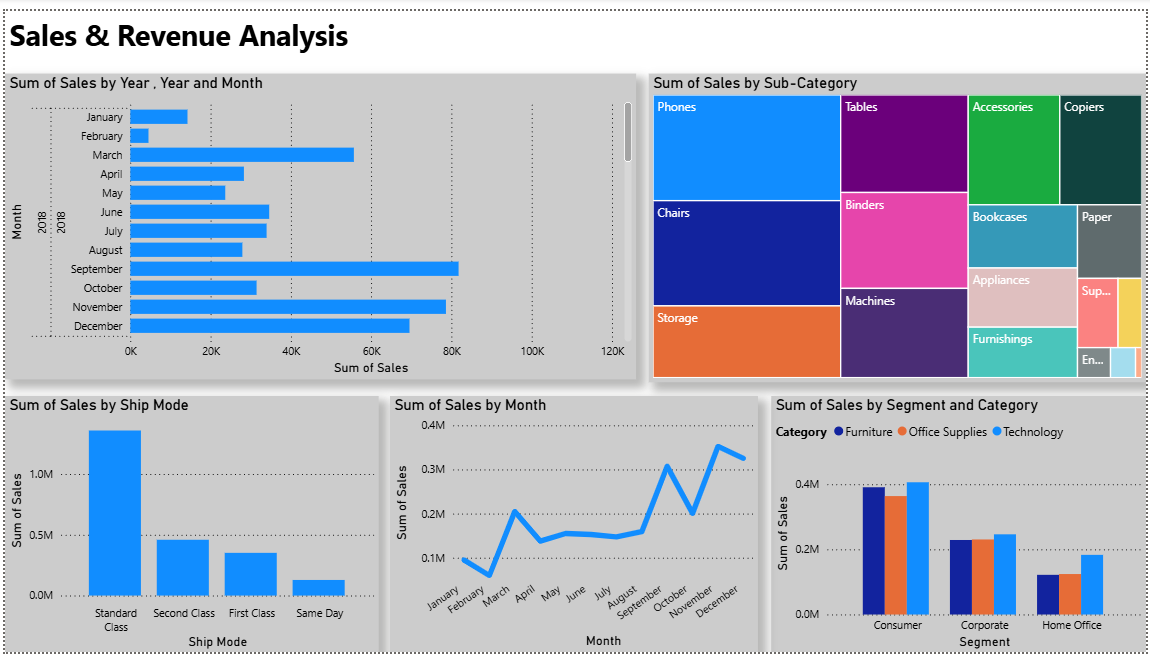

The page's visual inventory and layout, read from the dashboard file:
{"tool":"powerbi","page":{"name":"Page 2","canvas":[1280,720],"ordinal":1},"visuals":[{"type":"clusteredBarChart","fields":{"Category":["E-Commerce.Year ","E-Commerce.Order Date.Variation.Date Hierarchy.Year","E-Commerce.Order Date.Variation.Date Hierarchy.Month"],"Y":["Sum(E-Commerce.Sales)"]},"box":[13.7,70,671,343.1],"z":0},{"type":"treemap","fields":{"Group":["E-Commerce.Sub-Category"],"Values":["Sum(E-Commerce.Sales)"]},"box":[721.8,70,542,345.8],"z":1000},{"type":"columnChart","fields":{"Category":["E-Commerce.Ship Mode"],"Y":["Sum(E-Commerce.Sales)"]},"box":[13.7,432.2,392.5,288.2],"z":2000},{"type":"clusteredColumnChart","fields":{"Category":["E-Commerce.Segment"],"Series":["E-Commerce.Category"],"Y":["Sum(E-Commerce.Sales)"]},"box":[874.1,432.2,389.7,288.2],"z":3000},{"type":"lineChart","fields":{"Category":["E-Commerce.Order Date.Variation.Date Hierarchy.Month"],"Y":["Sum(E-Commerce.Sales)"]},"box":[432.2,432.2,413,288.2],"z":4000},{"type":"textbox","box":[34.3,9.6,299.1,59],"z":5000}]}

Visuals, with their boxes in screenshot pixels (x1, y1, x2, y2), scaled from the page's 1280x720 canvas onto the 1150x657 screenshot:
clusteredBarChart - E-Commerce.Year  x E-Commerce.Order Date.Variation.Date Hierarchy.Year: <region>12, 64, 615, 377</region>
treemap - E-Commerce.Sub-Category x Sum(E-Commerce.Sales): <region>648, 64, 1135, 379</region>
columnChart - E-Commerce.Ship Mode x Sum(E-Commerce.Sales): <region>12, 394, 365, 656</region>
clusteredColumnChart - E-Commerce.Segment x E-Commerce.Category: <region>785, 394, 1135, 656</region>
lineChart - E-Commerce.Order Date.Variation.Date Hierarchy.Month x Sum(E-Commerce.Sales): <region>388, 394, 759, 656</region>
textbox: <region>31, 9, 300, 63</region>
